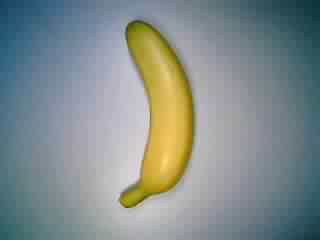banana: (119, 19, 196, 209)
